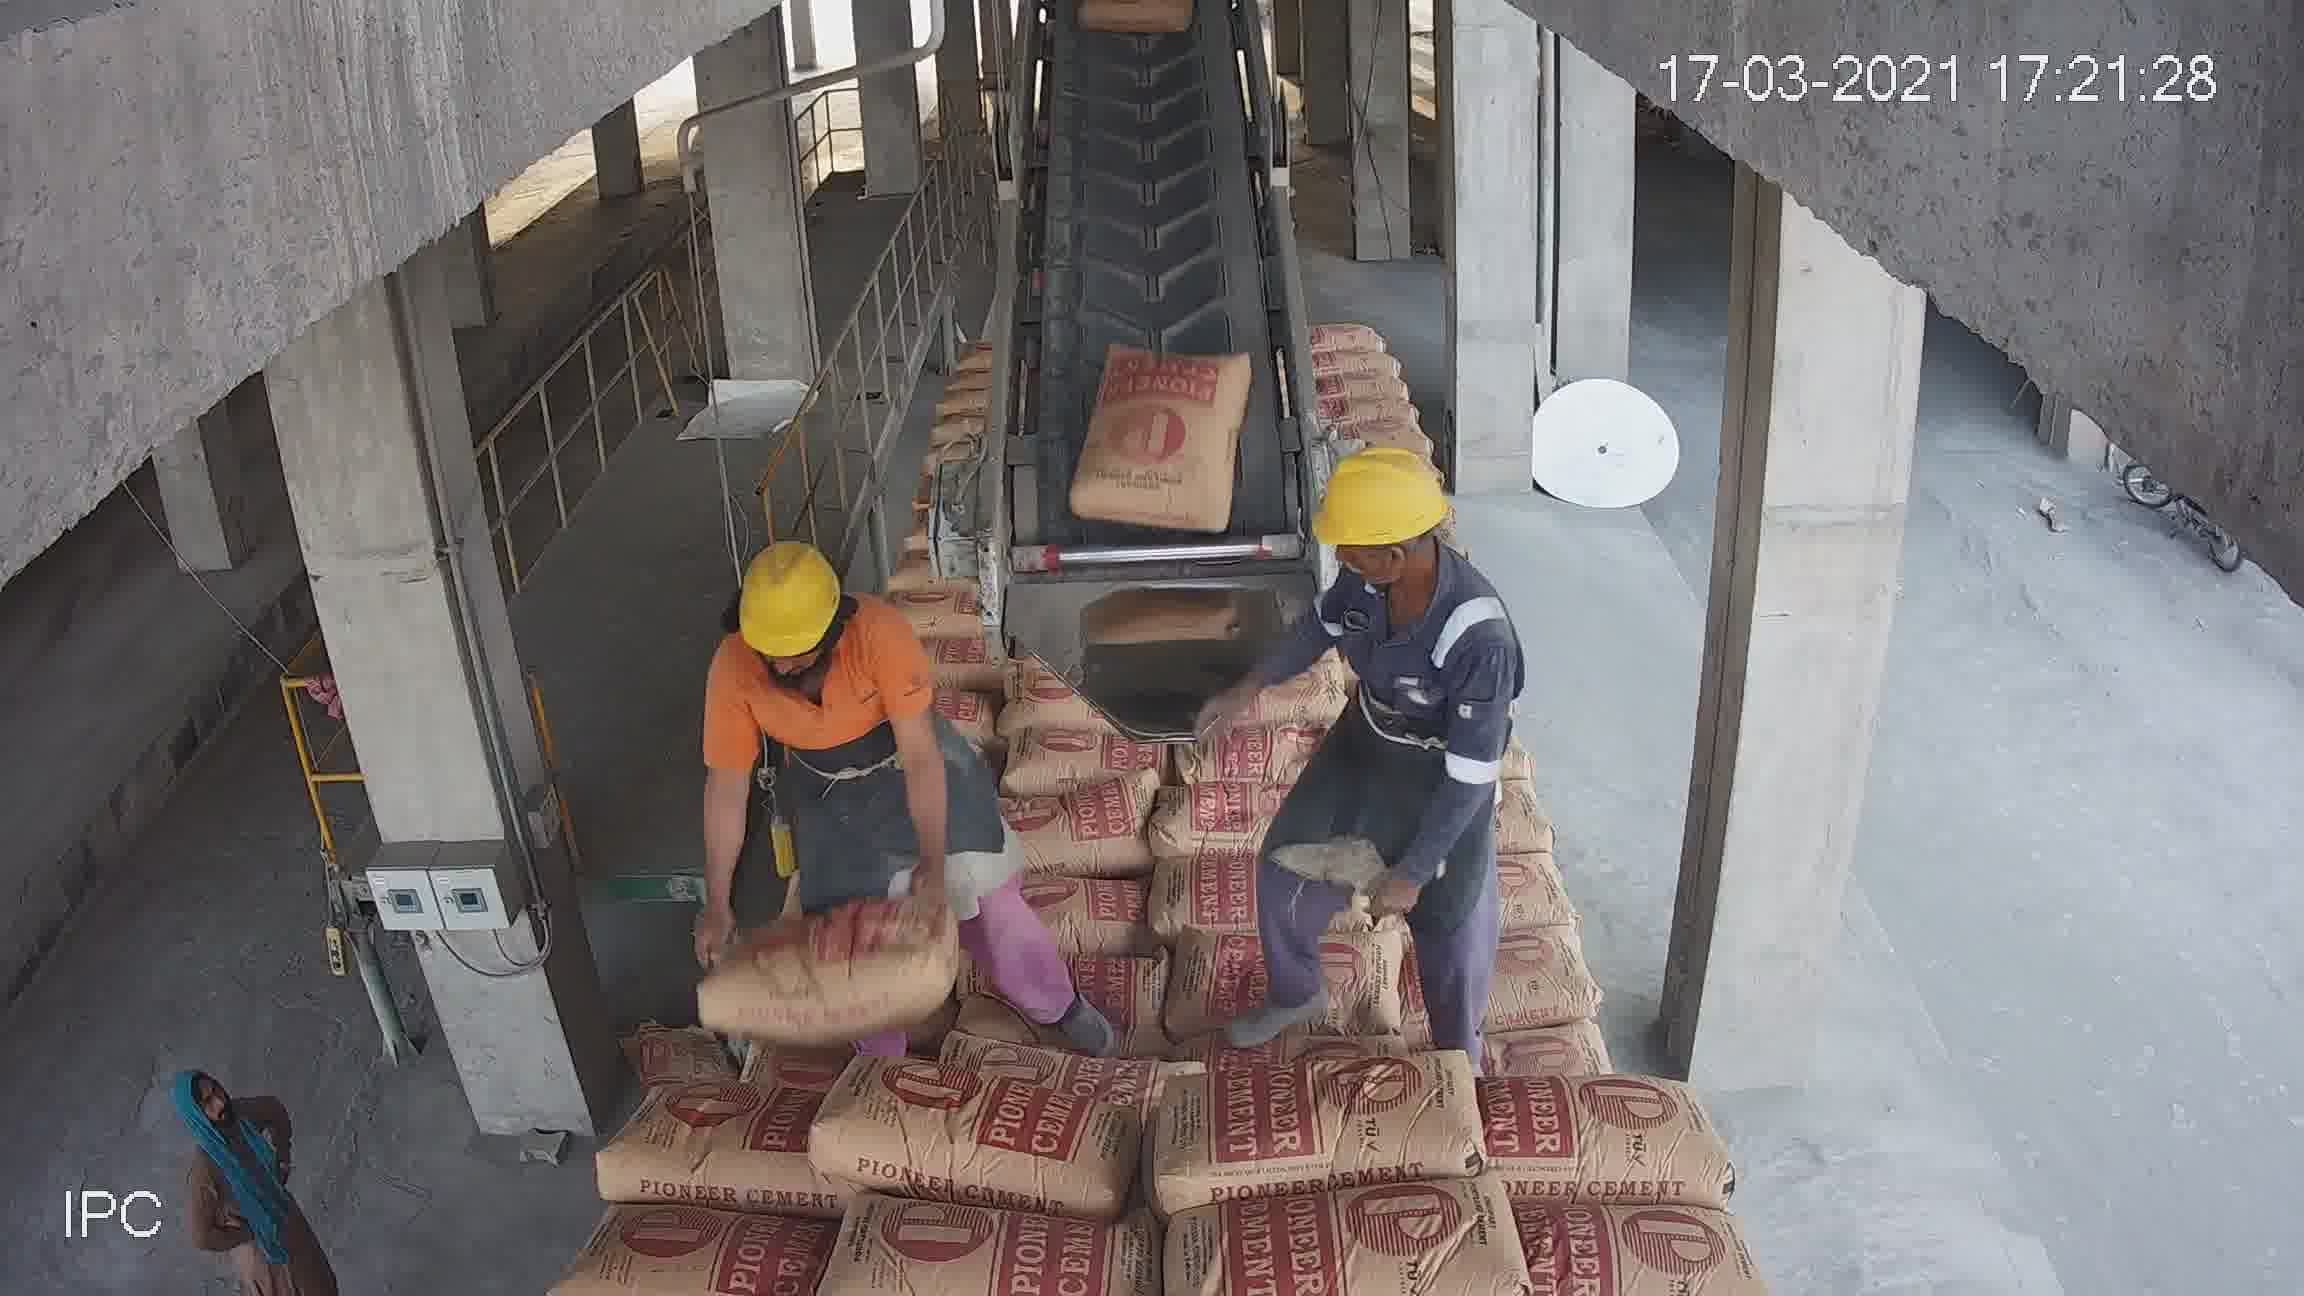bag_h: (1119, 1025, 1502, 1215), (1158, 1150, 1506, 1296), (1128, 946, 1454, 1097), (870, 932, 1144, 1101), (821, 1059, 1144, 1196), (1442, 1054, 1730, 1203), (1407, 932, 1701, 1063), (623, 949, 907, 1079), (1124, 711, 1396, 845), (1176, 824, 1426, 968), (593, 1071, 832, 1215), (881, 824, 1139, 956), (668, 840, 915, 972), (820, 1203, 1152, 1293), (1431, 855, 1657, 965), (904, 742, 1139, 843), (1510, 1195, 1780, 1275), (1397, 761, 1597, 870), (692, 766, 896, 867), (540, 1222, 791, 1296), (995, 652, 1179, 736), (1010, 574, 1176, 631), (888, 464, 1019, 529), (1182, 519, 1305, 585), (1141, 567, 1290, 619), (1418, 717, 1537, 775), (896, 506, 1036, 554), (911, 540, 1032, 592), (1017, 627, 1184, 661), (1410, 658, 1506, 712), (1022, 722, 1161, 756), (1161, 676, 1253, 725), (1199, 609, 1282, 650)
belt: (1017, 0, 1291, 492)
